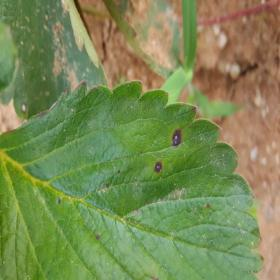Leaf Spot: (0, 80, 265, 279)
